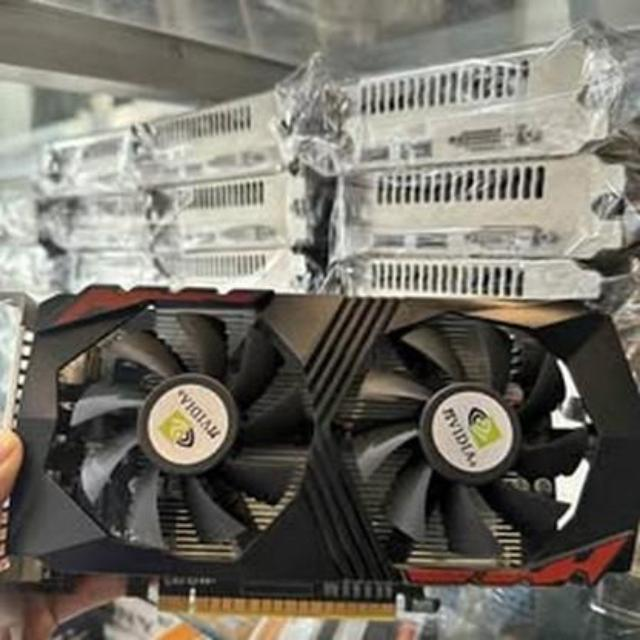GPU: (0, 272, 640, 630)
